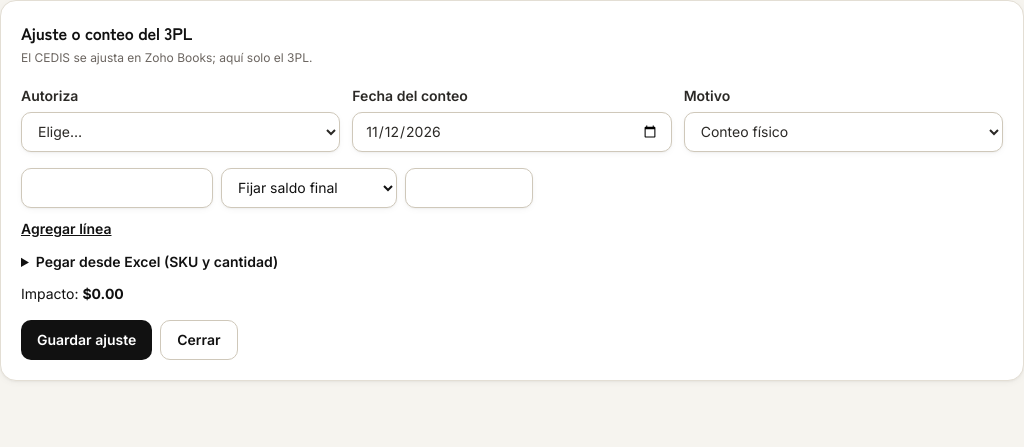
Test: ajuste de 3PL › si el saldo cambió, refresca para traer el saldo nuevo y conserva lo capturado
Select "Luis" in the dropdown labelled "Autoriza". click: (181, 132)
box: 21,112 -> 340,152
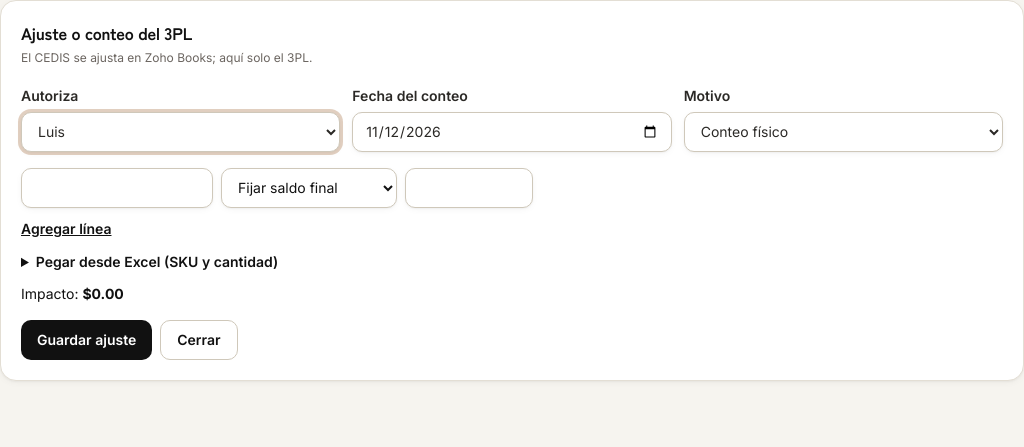
Type "A" into the field named "SKU 1". click: (117, 188)
box: 21,168 -> 213,208
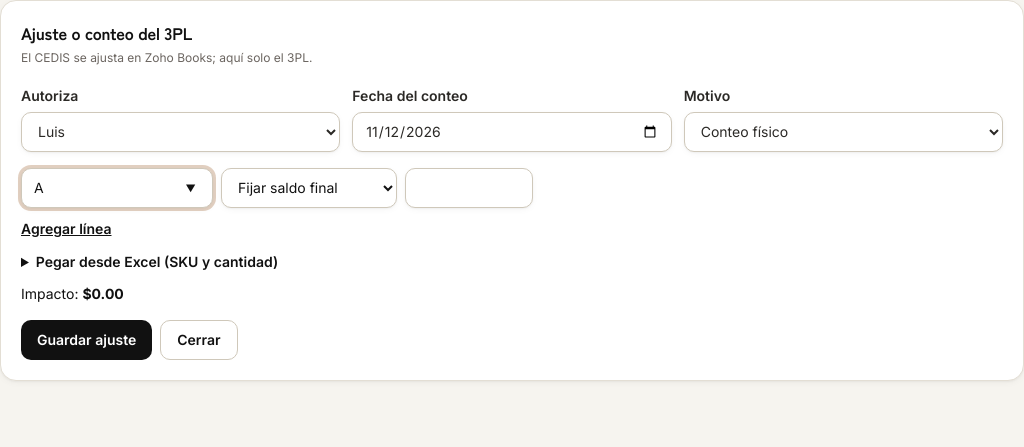
Type "12" into the field named "Cantidad 1". click: (469, 188)
box: 405,168 -> 533,208
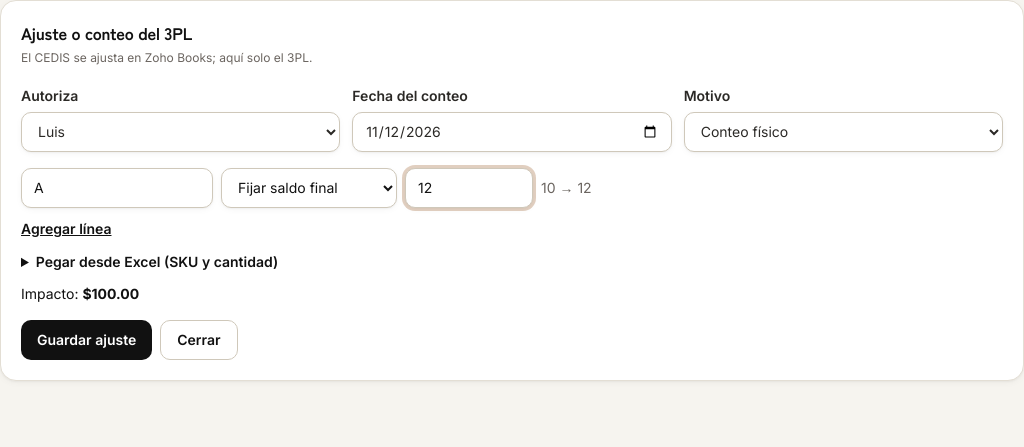
Click the button "Guardar ajuste". click: click(87, 340)
box: 21,320 -> 152,360
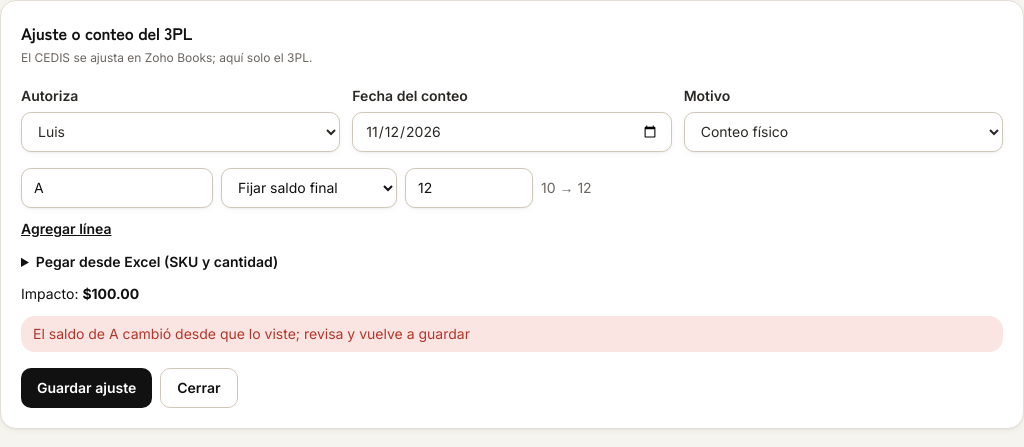
Expected: the message shows "cambió", 33,325 -> 470,342
